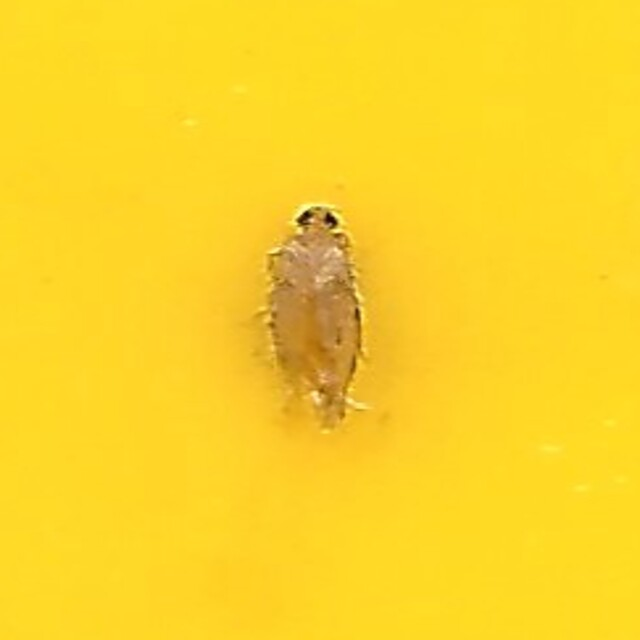Trichoptera: (263, 204, 377, 436)
